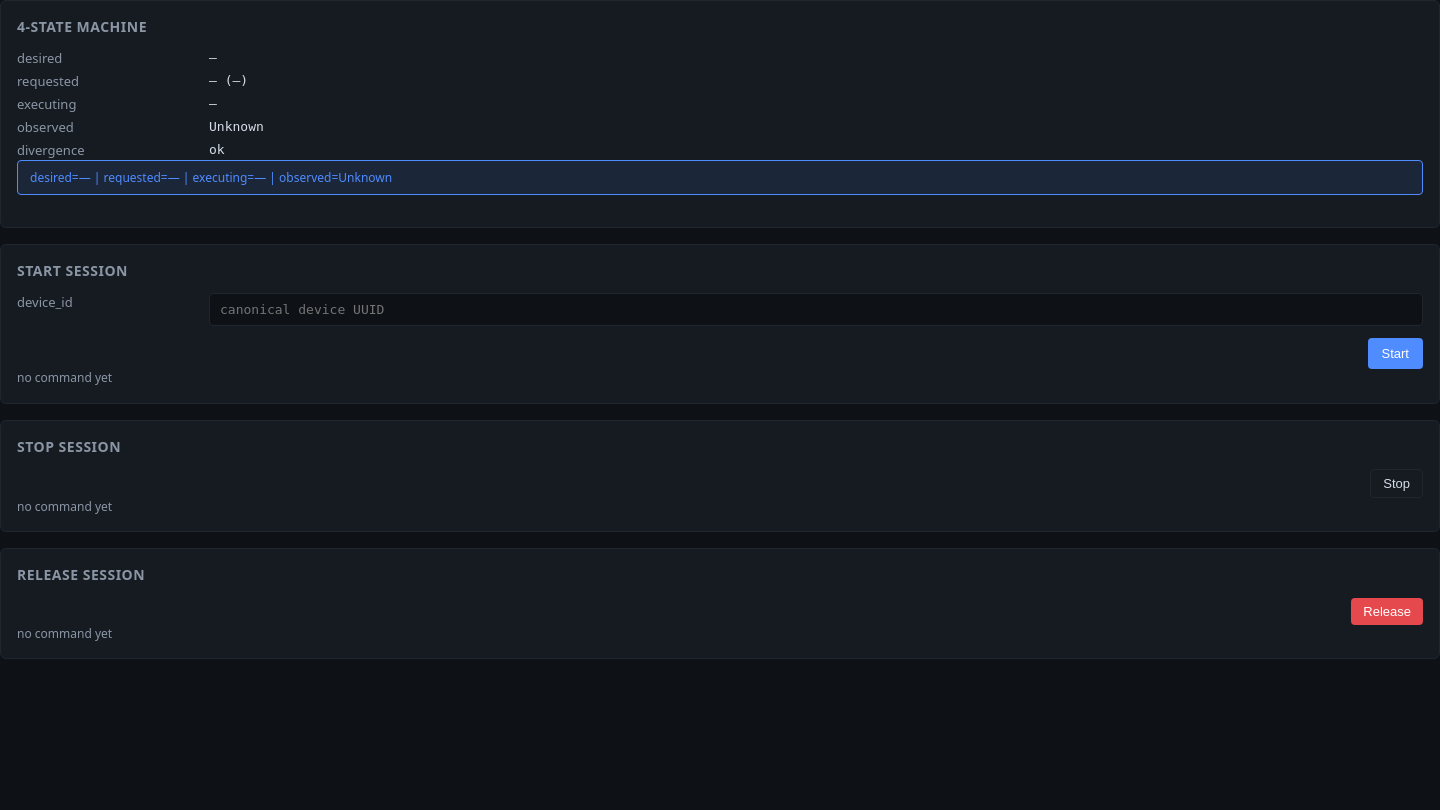
Test case: SessionsPage polling lifecycle (BUG-B regression) › 5. Release targets the latest non-terminated session when none is running (canonical idempotent removal); Stop still refuses
Click the button "Stop" at (1397, 483), box [1370,469,1423,498]
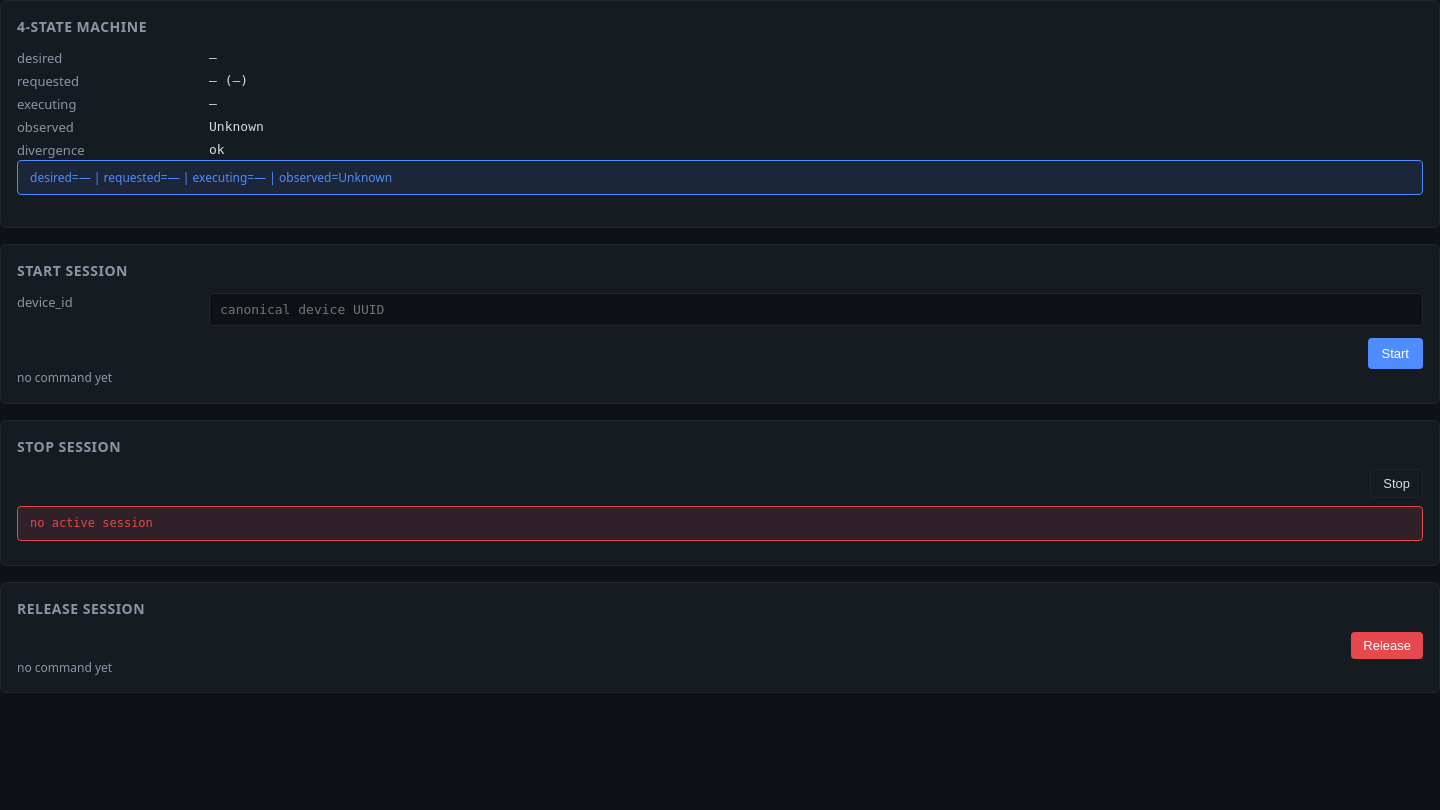
Result: the text "no active session" is shown at [17,506,1423,541]
Click the button "Release" at (1387, 645), box [1351,632,1423,659]
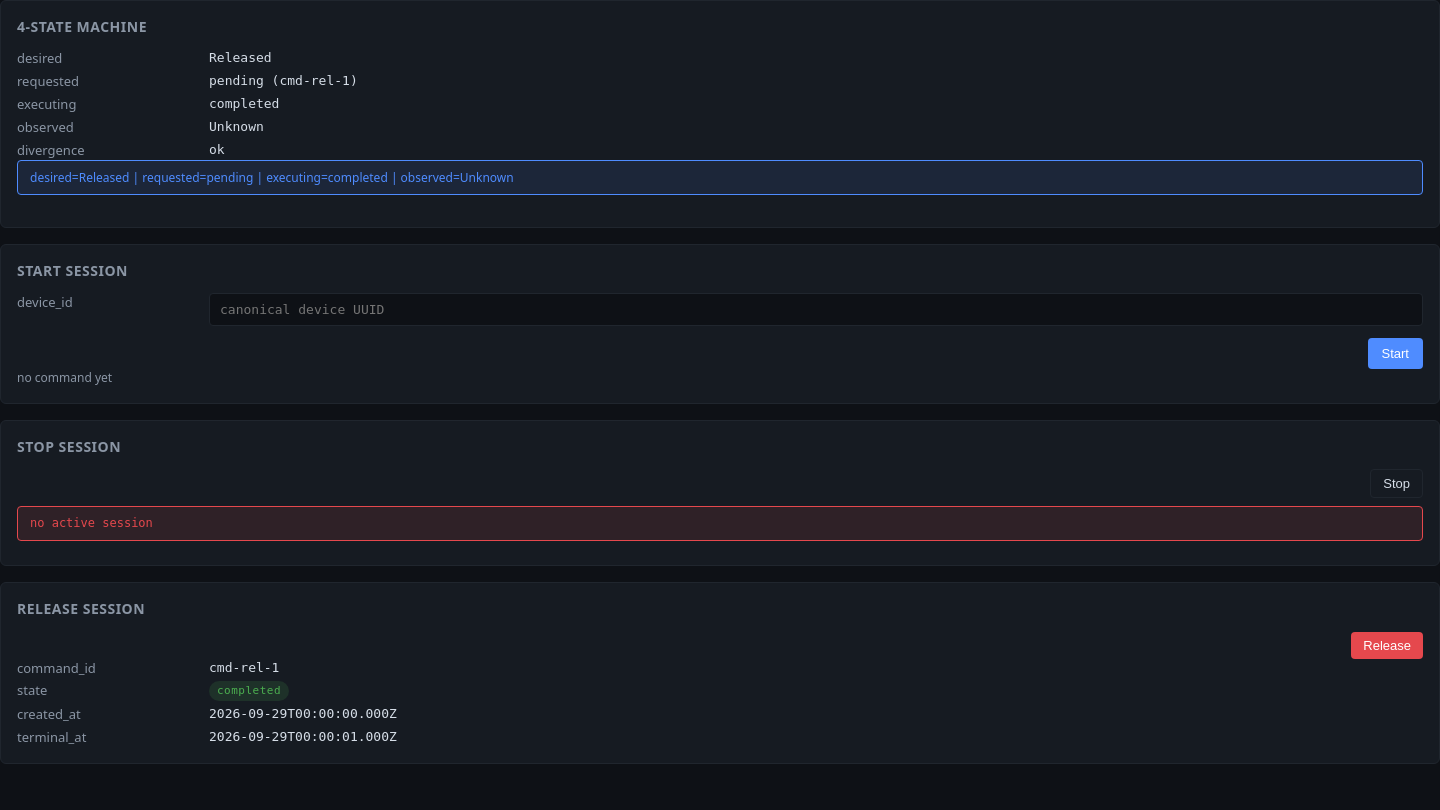
Result: the text "cmd-rel-1" is shown at [280,73,350,88]
Result: the text "completed" is shown at [209,96,280,111]
